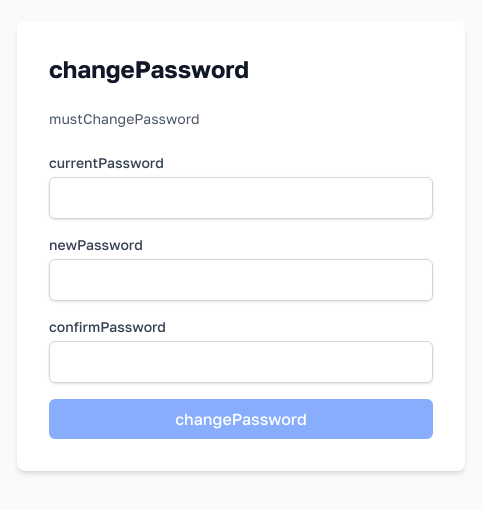
Test: ChangePassword.vue › shows mismatch error when passwords differ
This screenshot has width=483, height=510.
Type "newpass123456" into the password field with id "newPassword" at [241, 280], box x1=49 y1=259 x2=433 y2=301
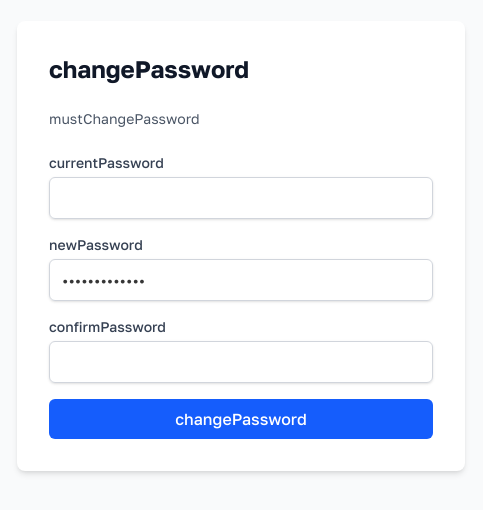
Type "differentpass12" into the password field with id "confirmPassword" at [241, 362], box x1=49 y1=341 x2=433 y2=383
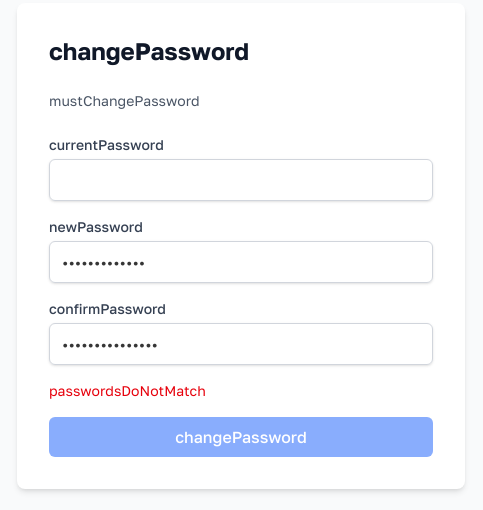
Now the text "passwordsDoNotMatch" is shown, box x1=49 y1=382 x2=206 y2=399
